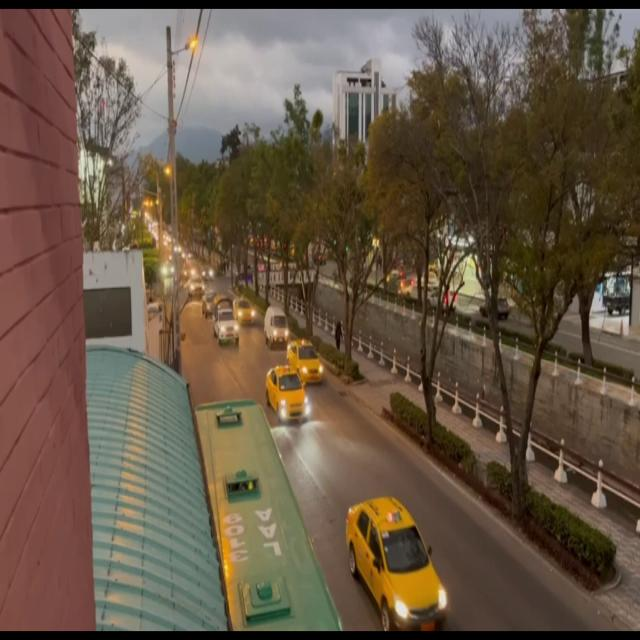SED: (270, 371, 309, 423), (291, 342, 324, 383), (235, 299, 255, 325)
SUV: (267, 310, 288, 348)
